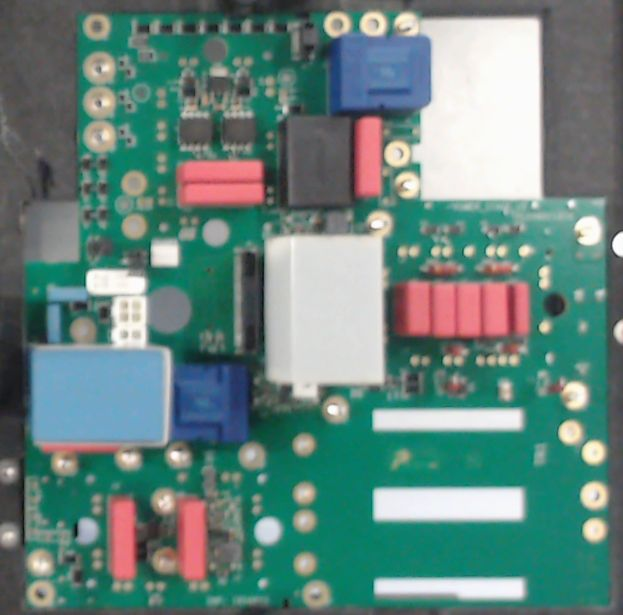comp1: (329, 36, 432, 109), (172, 365, 251, 443)
comp2: (353, 115, 384, 203), (177, 498, 209, 580), (108, 496, 137, 583), (174, 182, 264, 205), (176, 160, 268, 182), (395, 279, 430, 336), (480, 279, 511, 340), (430, 278, 456, 339), (456, 280, 482, 341), (513, 281, 529, 338)
comp3: (280, 114, 354, 208)
comp4: (261, 234, 385, 386), (32, 343, 172, 446)
